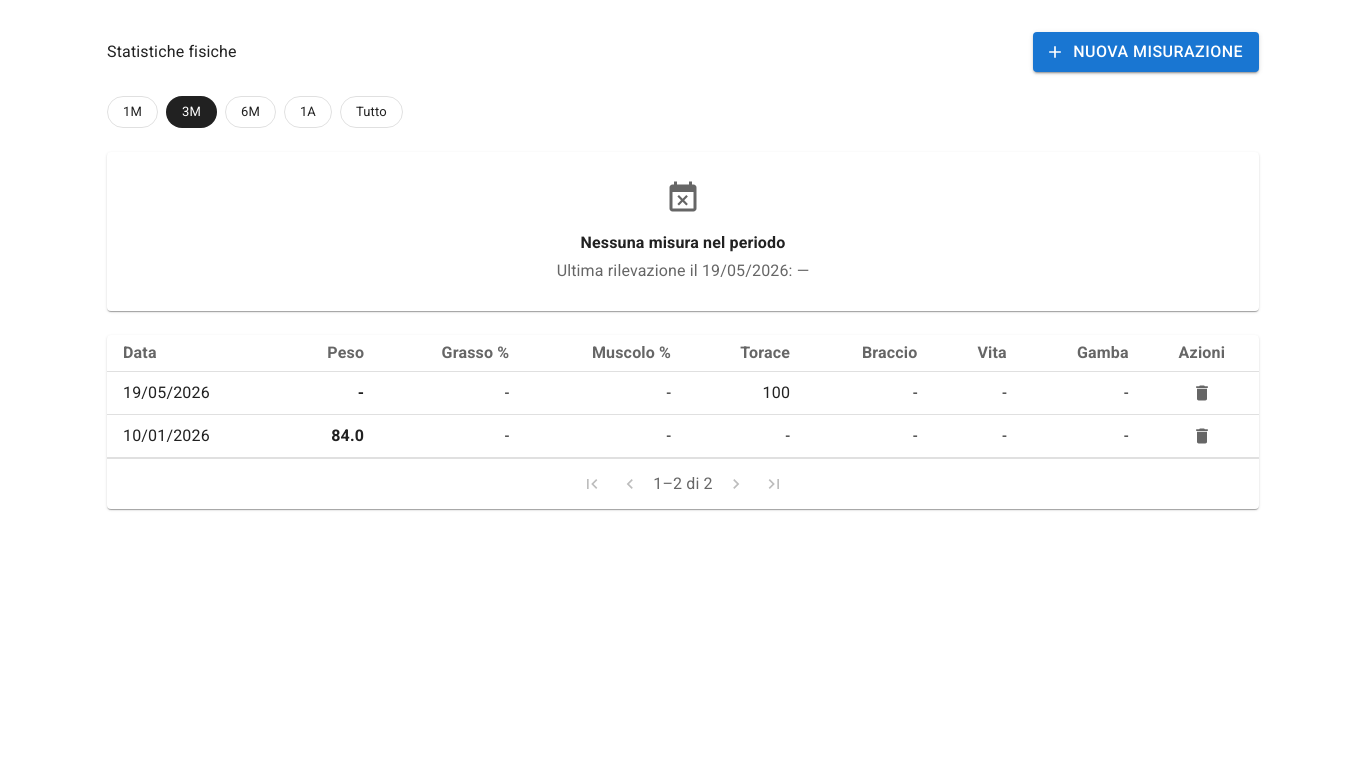
Test: periodo senza misure › mostra l'ultima rilevazione, senza peso se quella riga non ne ha, e Tutto riporta i grafici
Expected: the element named "Periodo" is shown, 107,96 -> 403,128
Expected: the text "Nessuna misura nel periodo" is shown, 581,233 -> 785,252
Click the button "Tutto": (371, 112) 340,96 -> 403,128
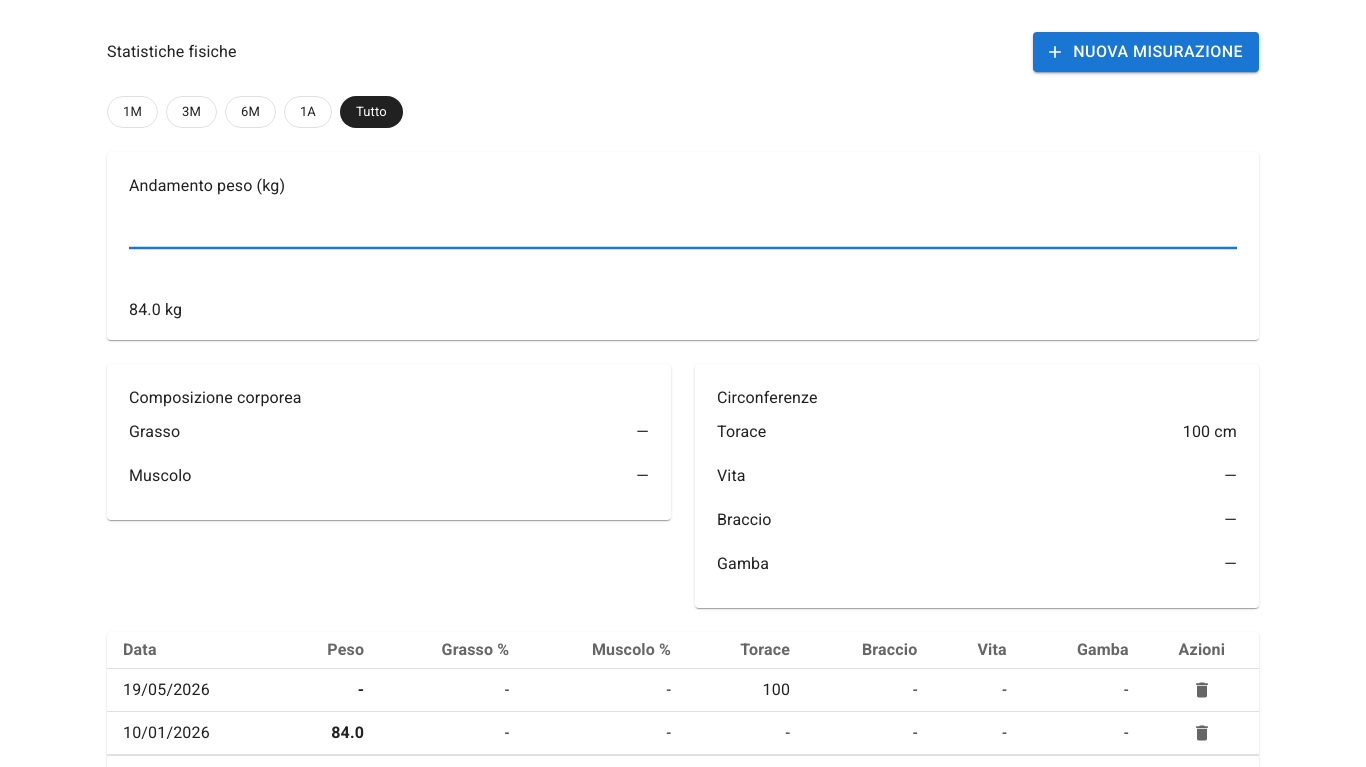
Expected: the text "Nessuna misura nel periodo" is gone
Expected: the text "84.0 kg" is shown, 129,298 -> 182,322
